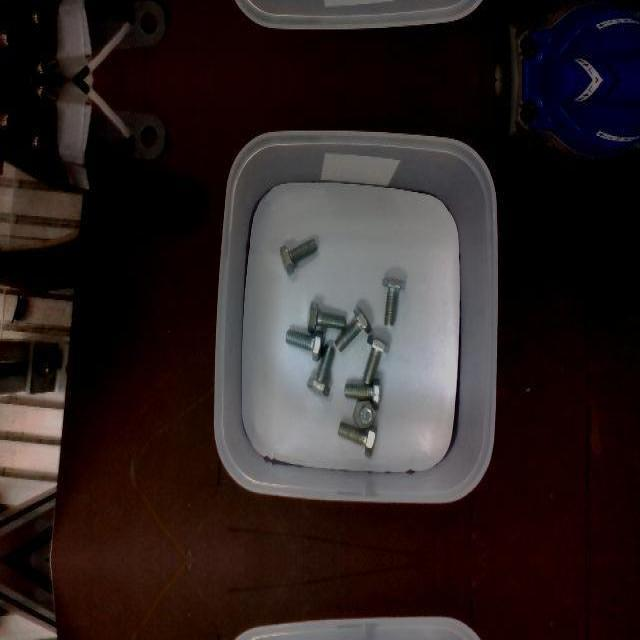screw: (334, 305, 372, 351), (306, 345, 335, 397), (337, 421, 377, 457), (363, 332, 389, 386), (279, 238, 317, 274), (286, 327, 325, 361), (307, 300, 345, 332), (381, 276, 405, 326), (345, 378, 382, 410), (352, 400, 376, 430)
